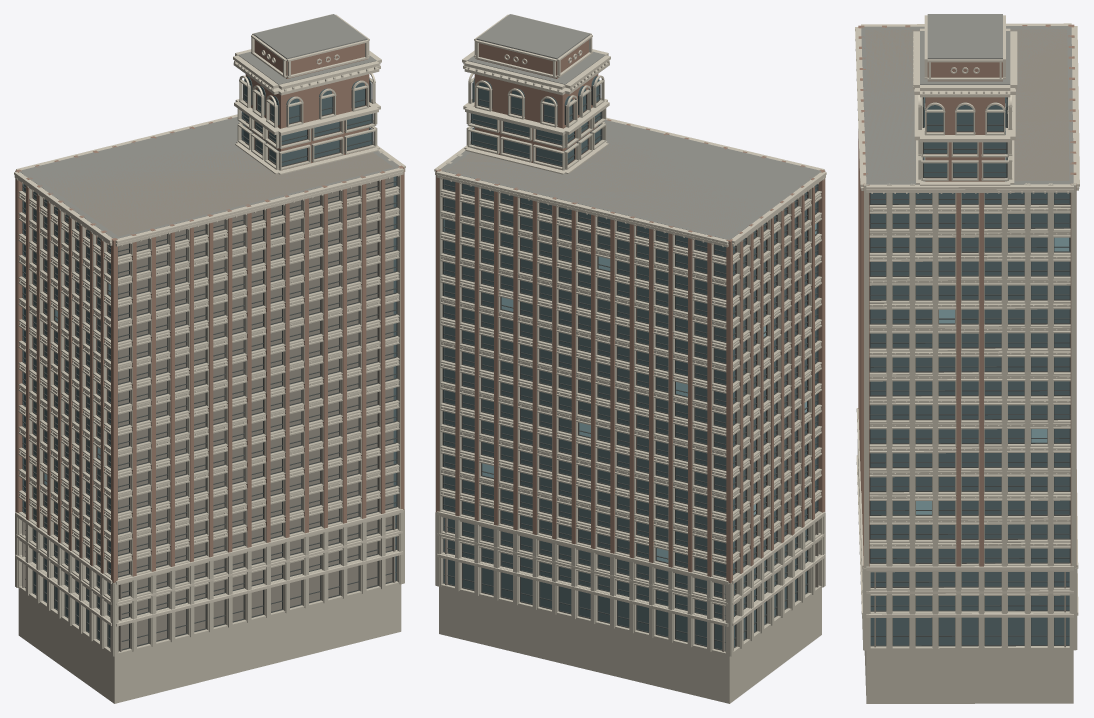
The model's file is six_michigan.glb.
The picture shows the model from 3 angles, left to right: view 1: azimuth 30°, elevation 25°; view 2: azimuth 150°, elevation 25°; view 3: azimuth 270°, elevation 25°; orthographic projection. The views are drawn at different scales.
Visible parts, largest first — view 1: SixMichigan pale stone surrounds, SixMichigan recessed opaque masonry, SixMichigan warm brick piers, SixMichigan dark sash frames, SixMichigan opaque roof surface, SixMichigan projecting carved stone, SixMichigan separate recessed glass; view 2: SixMichigan pale stone surrounds, SixMichigan separate recessed glass, SixMichigan warm brick piers, SixMichigan dark sash frames, SixMichigan opaque roof surface, SixMichigan projecting carved stone, SixMichigan recessed opaque masonry, Night SixMichigan occupied glass; view 3: SixMichigan pale stone surrounds, SixMichigan separate recessed glass, SixMichigan opaque roof surface, SixMichigan dark sash frames, SixMichigan recessed opaque masonry, SixMichigan projecting carved stone, SixMichigan warm brick piers, Night SixMichigan occupied glass.
Part boxes in pixels (box(x1,y1,x2,y2)): SixMichigan pale stone surrounds: box(15, 77, 404, 703); SixMichigan recessed opaque masonry: box(22, 138, 395, 651); SixMichigan warm brick piers: box(15, 40, 404, 582); SixMichigan dark sash frames: box(22, 81, 397, 650); SixMichigan opaque roof surface: box(19, 14, 399, 238); SixMichigan projecting carved stone: box(14, 14, 405, 626); SixMichigan separate recessed glass: box(23, 76, 396, 646); SixMichigan pale stone surrounds: box(435, 77, 825, 703); SixMichigan separate recessed glass: box(443, 76, 817, 649); SixMichigan warm brick piers: box(436, 40, 825, 583); SixMichigan dark sash frames: box(442, 81, 818, 651); SixMichigan opaque roof surface: box(440, 14, 821, 239); SixMichigan projecting carved stone: box(434, 14, 826, 626); SixMichigan recessed opaque masonry: box(444, 125, 818, 651); Night SixMichigan occupied glass: box(443, 219, 816, 562); SixMichigan pale stone surrounds: box(857, 97, 1077, 703); SixMichigan separate recessed glass: box(870, 97, 1069, 645); SixMichigan opaque roof surface: box(861, 14, 1073, 184); SixMichigan dark sash frames: box(869, 97, 1070, 646); SixMichigan recessed opaque masonry: box(865, 29, 1070, 647); SixMichigan projecting carved stone: box(855, 15, 1079, 617); SixMichigan warm brick piers: box(858, 24, 1076, 567); Night SixMichigan occupied glass: box(916, 237, 1068, 514).
Size of the model in its own units: 51.41 by 94 by 29.81.
